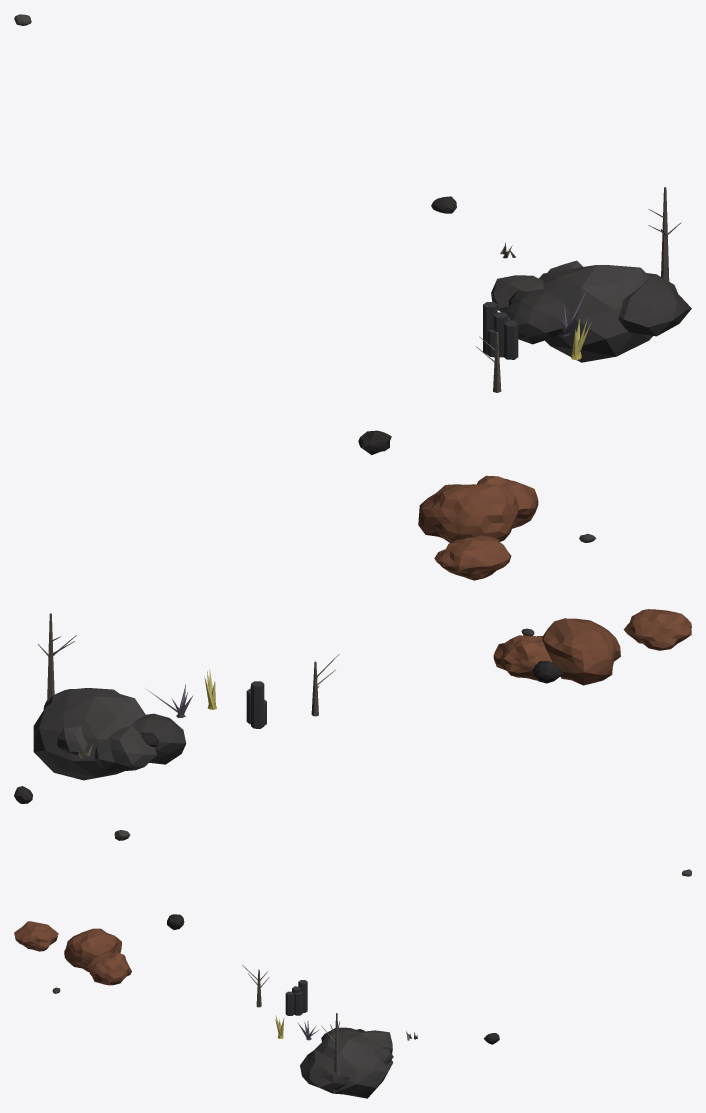
Rendered from ash_land_scatter_c22_29.glb.
The picture shows the model from 3 angles, top to bottom: view 1: azimuth 30°, elevation 25°; view 2: azimuth 150°, elevation 25°; view 3: azimuth 270°, elevation 25°; orthographic projection. The views are drawn at different scales.
Parts seen in each view (by area): view 1: ash_land_scatter_c22_29; view 2: ash_land_scatter_c22_29; view 3: ash_land_scatter_c22_29.
Part boxes in pixels (x1,y1,x2,y2): ash_land_scatter_c22_29: (14, 14, 691, 580); ash_land_scatter_c22_29: (14, 609, 691, 840); ash_land_scatter_c22_29: (14, 869, 691, 1098).
Bounding box in the file's own units: 32.14 × 13.38 × 62.93.
